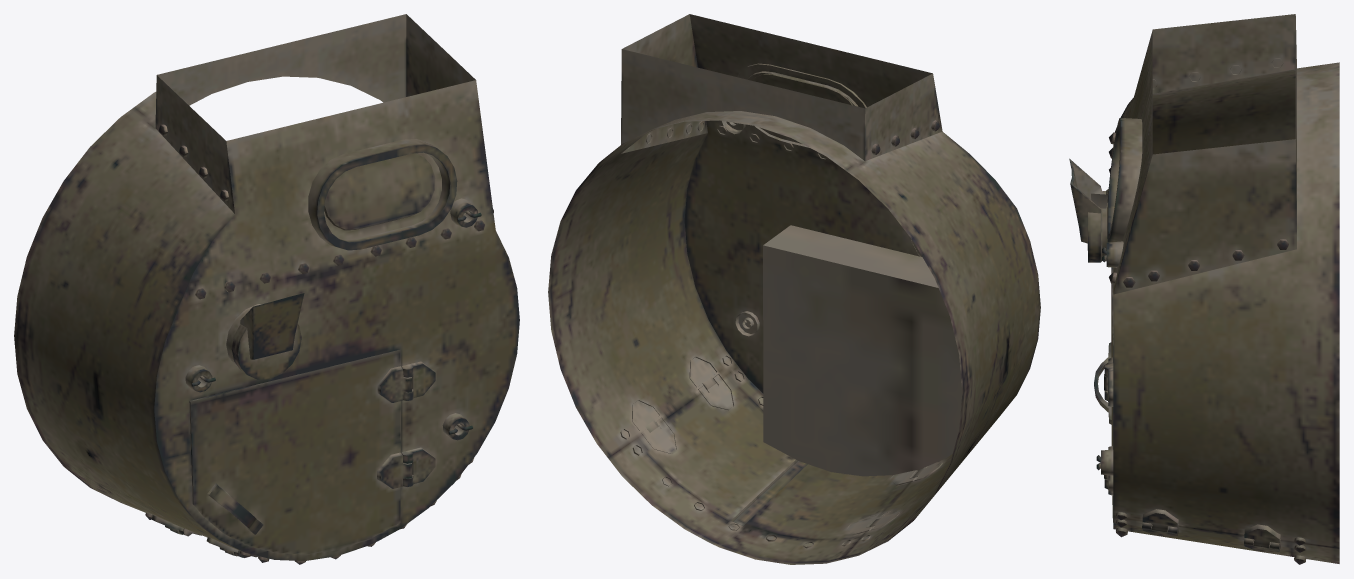
File: Turret_01.glb
3 renders of one model, left to right at view 1: azimuth 30°, elevation 25°; view 2: azimuth 150°, elevation 25°; view 3: azimuth 270°, elevation 25°, orthographic. The views are drawn at different scales.
Parts seen in each view (by area): view 1: set_0_group_0; view 2: set_0_group_0; view 3: set_0_group_0.
Part boxes in pixels (x1,y1,x2,y2): set_0_group_0: (14,14,519,564); set_0_group_0: (548,14,1040,564); set_0_group_0: (1069,14,1339,564).
Size of the model in its own units: 1.04 by 1.1 by 0.56.
Materials: 1 (1 with a texture image).
